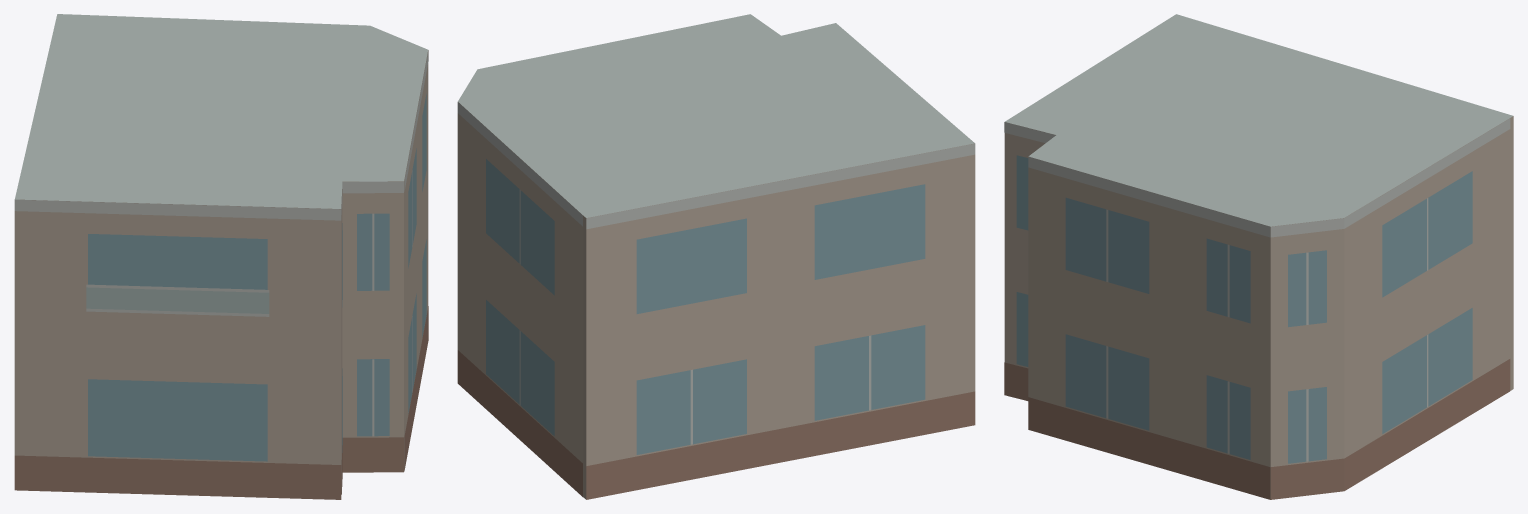
Rendered from survey-upis-32564177.glb.
3 views of the same model, side by side, from view 1: azimuth 30°, elevation 25°; view 2: azimuth 150°, elevation 25°; view 3: azimuth 270°, elevation 25° (orthographic). The views are drawn at different scales.
Visible parts, largest first — view 1: survey-upis-32564177.tmp; view 2: survey-upis-32564177.tmp; view 3: survey-upis-32564177.tmp.
Boxes of the visible parts, x1,y1,x2,y2 form: survey-upis-32564177.tmp: [14, 14, 428, 499]; survey-upis-32564177.tmp: [457, 14, 975, 499]; survey-upis-32564177.tmp: [1004, 14, 1513, 499].
Size of the model in its own units: 10.19 by 6.1 by 10.31.
